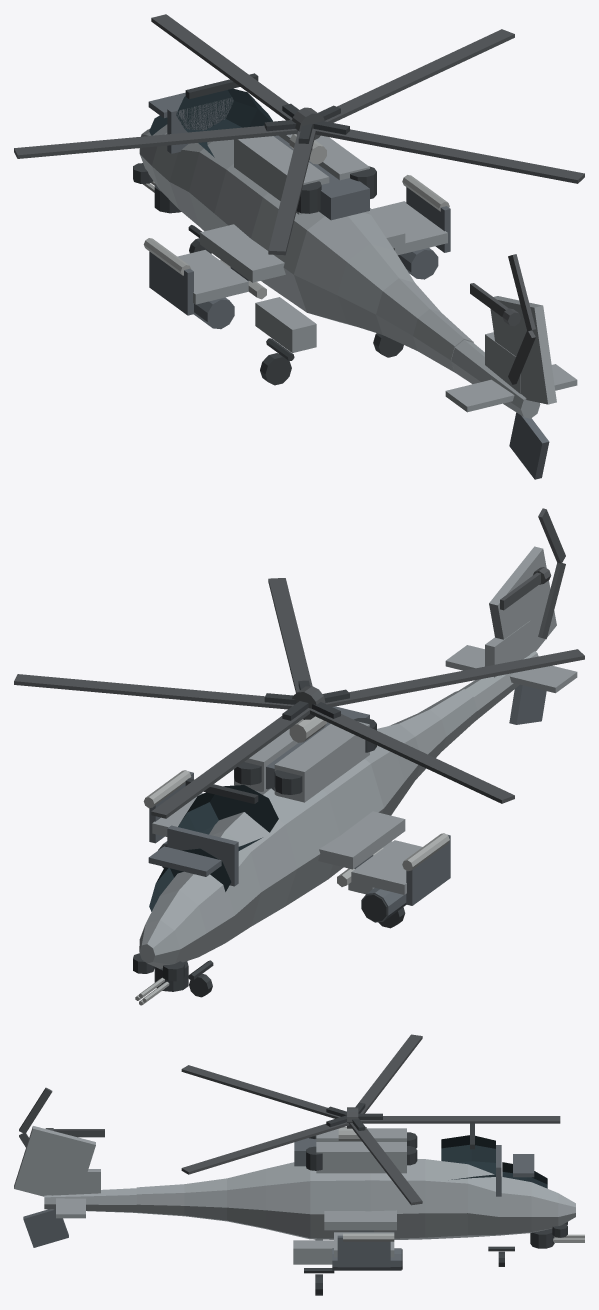
3 renders of one model, top to bottom at view 1: azimuth 30°, elevation 25°; view 2: azimuth 150°, elevation 25°; view 3: azimuth 270°, elevation 25°, orthographic. The views are drawn at different scales.
Parts seen in each view (by area): view 1: Fuselage, Blade0, Fin, CanopyArch, TailBlade0, AirStore0, AirStore1; view 2: Fuselage, Blade0, Fin, CanopyArch, TailBlade0, AirStore0, AirStore1; view 3: Fuselage, Fin, Blade0, CanopyArch, TailBlade0, AirStore1.
Boxes of the visible parts, box(x1,y1,x2,y2) form: Fuselage: box(133, 107, 473, 385); Blade0: box(14, 14, 584, 255); Fin: box(445, 296, 577, 479); CanopyArch: box(148, 73, 272, 157); TailBlade0: box(470, 254, 535, 384); AirStore0: box(143, 238, 190, 275); AirStore1: box(402, 175, 449, 211); Fuselage: box(133, 686, 477, 1005); Blade0: box(14, 578, 584, 818); Fin: box(445, 546, 577, 724); CanopyArch: box(148, 778, 278, 911); TailBlade0: box(500, 508, 565, 639); AirStore0: box(402, 833, 449, 871); AirStore1: box(143, 770, 191, 808); Fuselage: box(136, 1107, 584, 1295); Fin: box(14, 1126, 136, 1247); Blade0: box(181, 1034, 560, 1205); CanopyArch: box(441, 1123, 547, 1196); TailBlade0: box(19, 1087, 104, 1147); AirStore1: box(343, 1233, 394, 1241).
Bounding box in the file's own units: 11.23 × 5.66 × 16.11.
